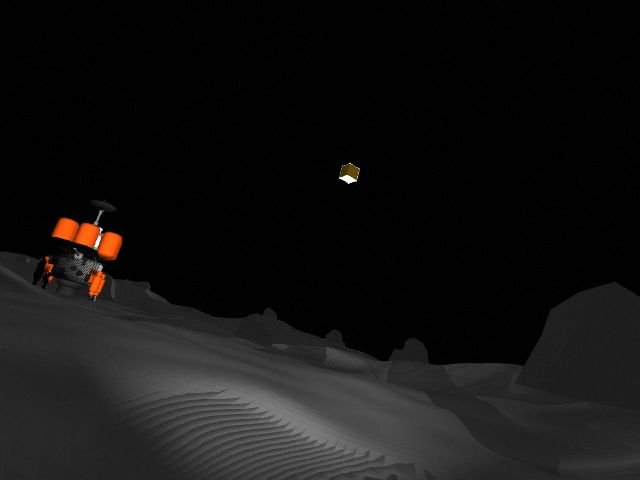homebase: (25, 195, 126, 308)
